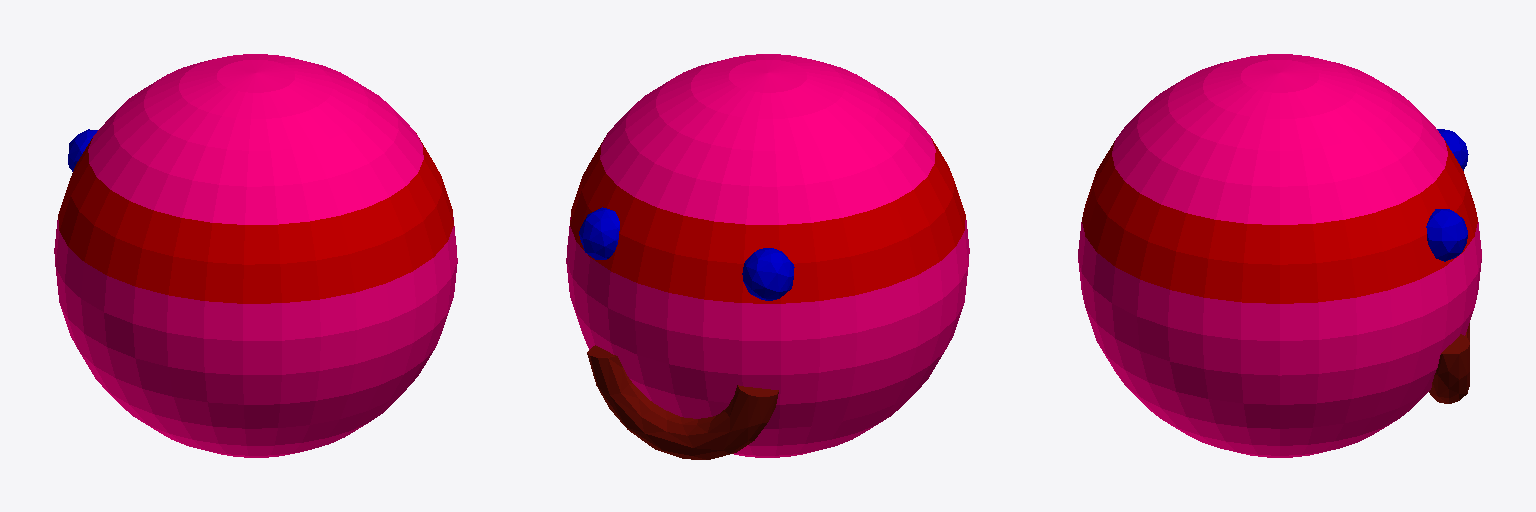
The model's file is SphereGameSphere2.obj.
The picture shows the model from 3 angles: view 1: azimuth 30°, elevation 25°; view 2: azimuth 150°, elevation 25°; view 3: azimuth 270°, elevation 25°; orthographic projection.
Visible parts, largest first — view 1: L2; view 2: L2; view 3: L2.
Part boxes in pixels (x1,y1,x2,y2): L2: (54, 54, 457, 457); L2: (566, 54, 969, 459); L2: (1078, 54, 1481, 457).
Size of the model in its own units: 2 by 2 by 2.